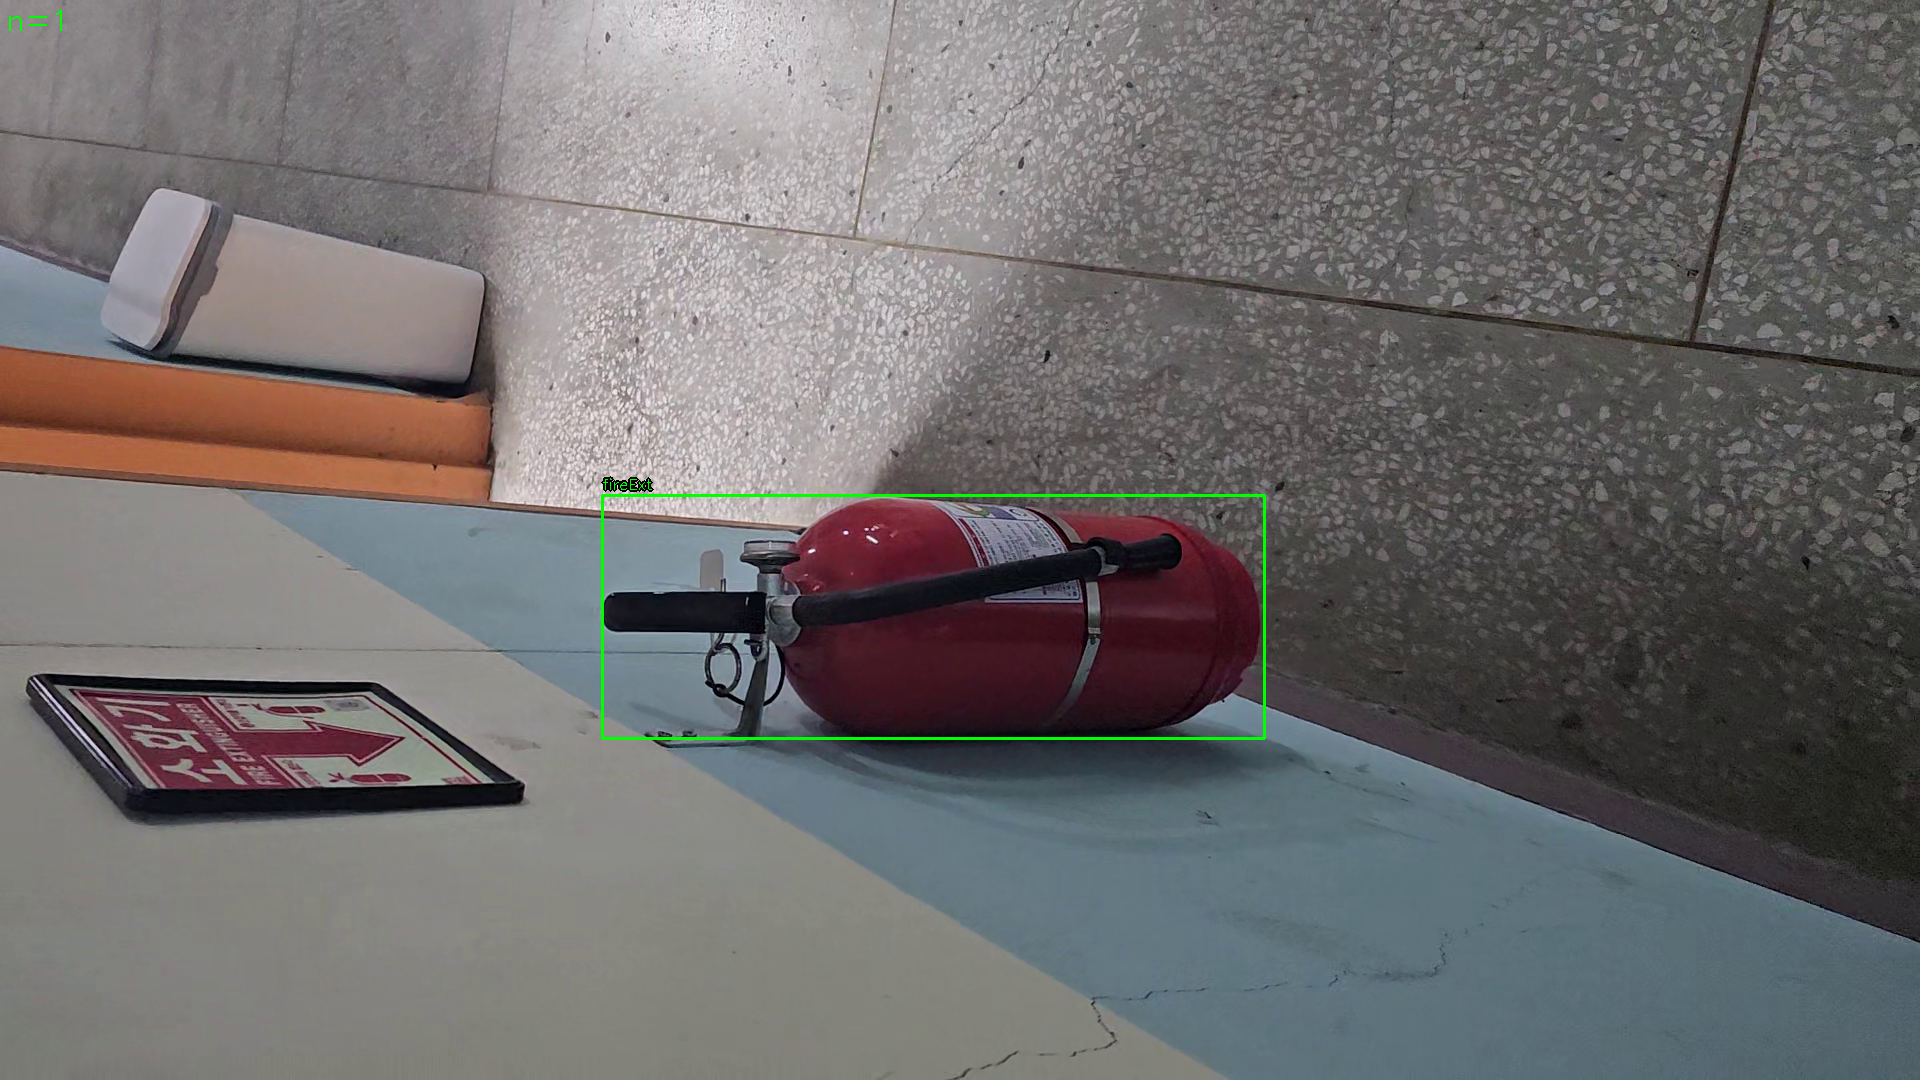lane: (603, 495, 1265, 738)
